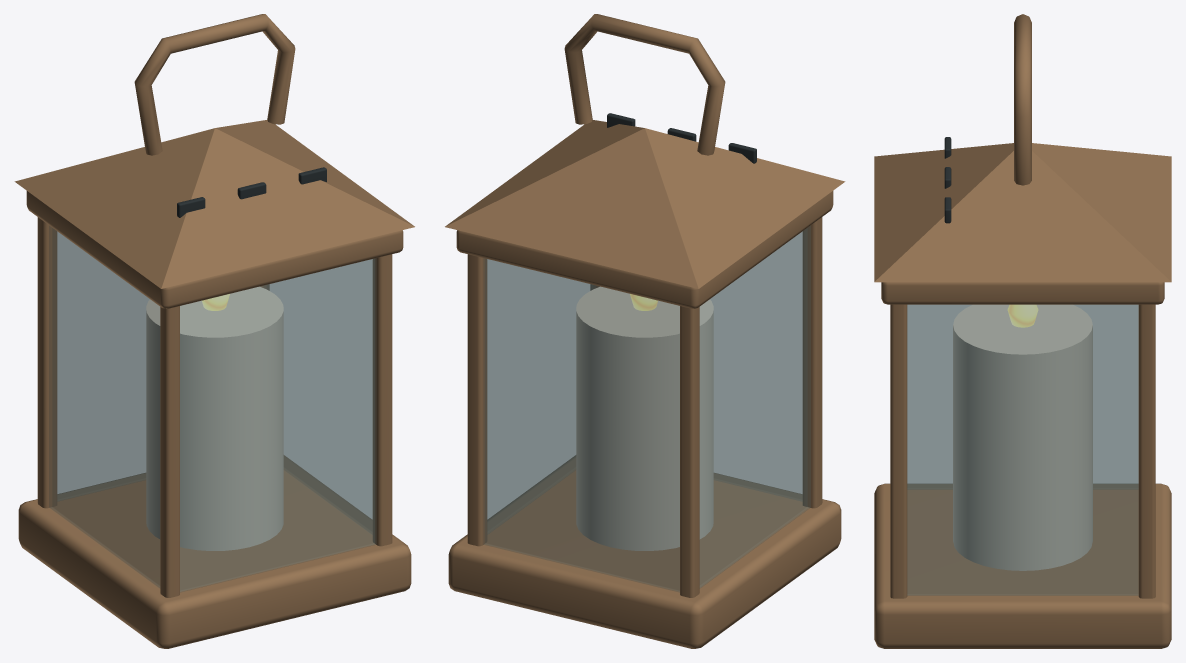
File: outdoor-caged-lantern.glb
The picture shows the model from 3 angles, left to right: view 1: azimuth 30°, elevation 25°; view 2: azimuth 150°, elevation 25°; view 3: azimuth 270°, elevation 25°; orthographic projection.
Parts seen in each view (by area): view 1: outdoor-caged-lantern authored assembly; view 2: outdoor-caged-lantern authored assembly; view 3: outdoor-caged-lantern authored assembly.
Part boxes in pixels (left/top/right/bottom): outdoor-caged-lantern authored assembly: left=14, top=14, right=414, bottom=648; outdoor-caged-lantern authored assembly: left=445, top=14, right=845, bottom=648; outdoor-caged-lantern authored assembly: left=874, top=14, right=1171, bottom=648.
Size of the model in its own units: 0.23 by 0.47 by 0.23.
